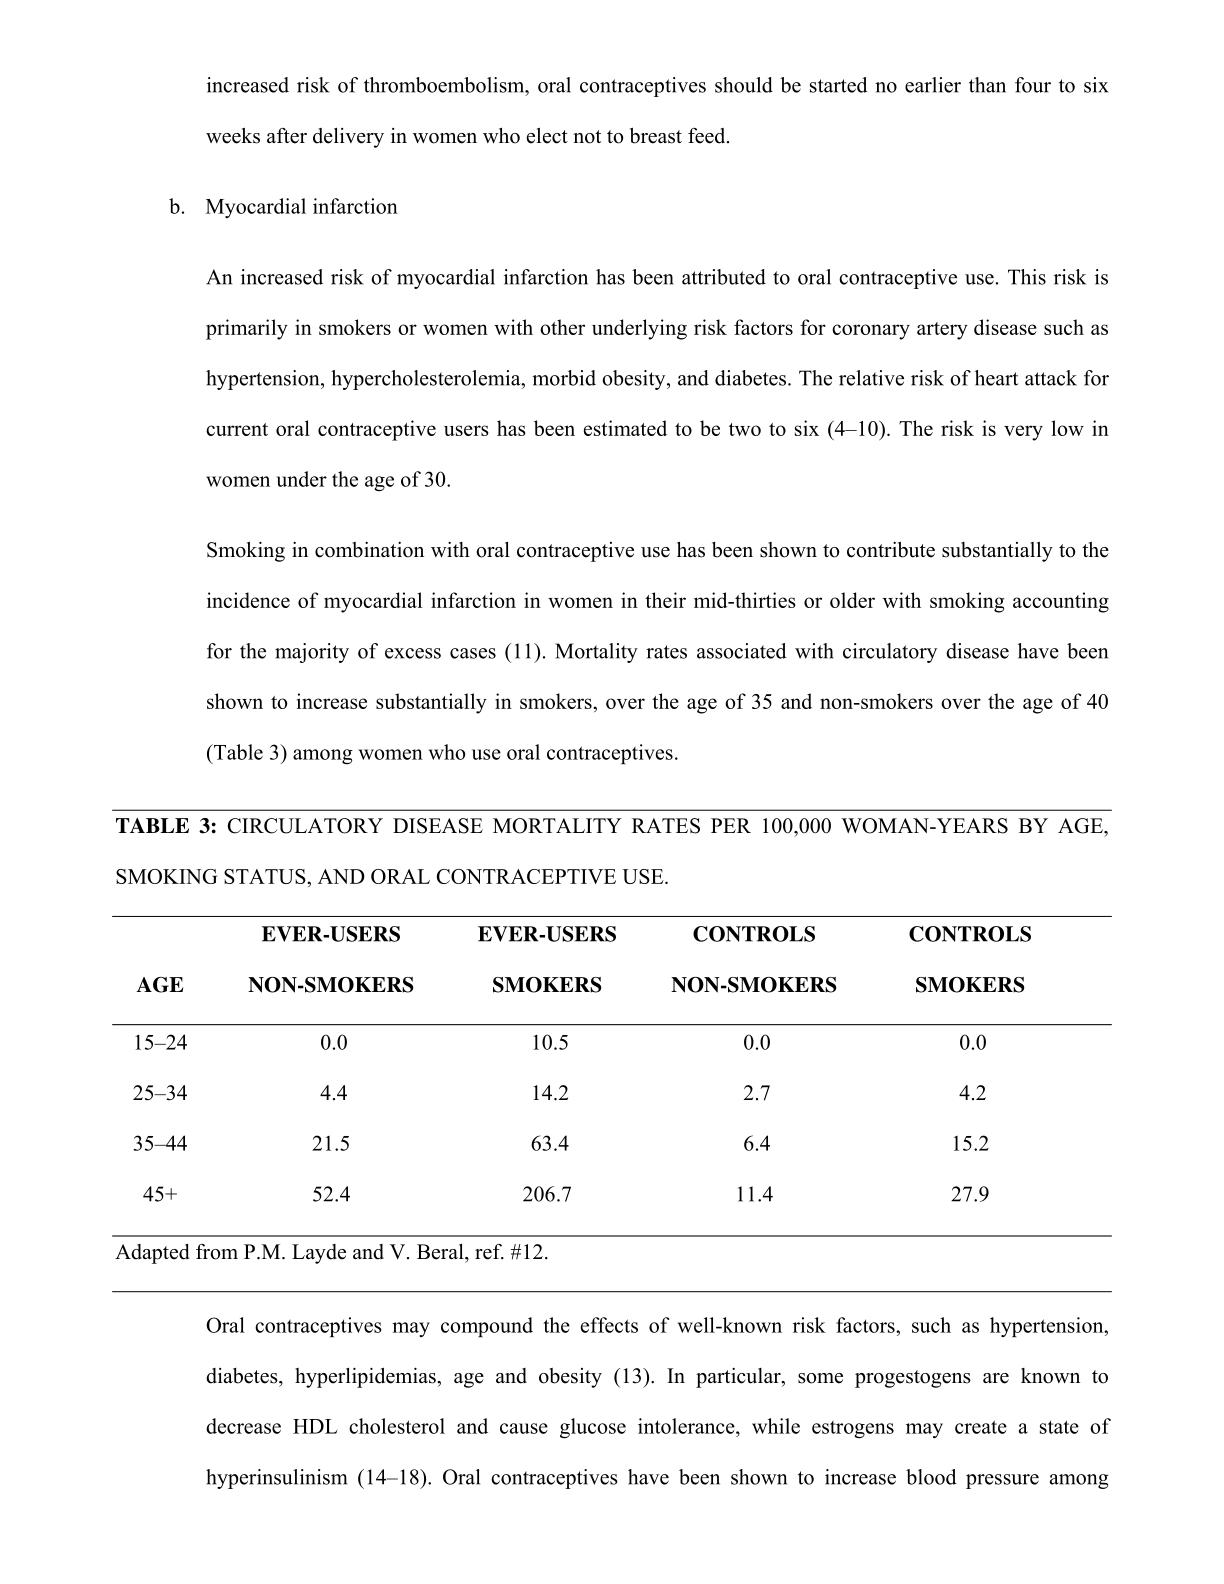partial_lined_merged_cells: (111, 807, 1115, 1295)
